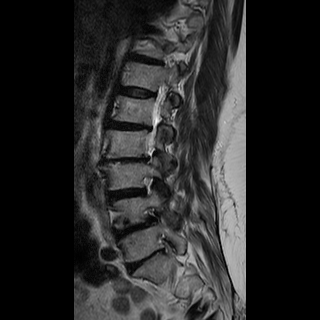RFS1: (134, 170, 160, 199)
RFS3: (137, 201, 165, 233)
